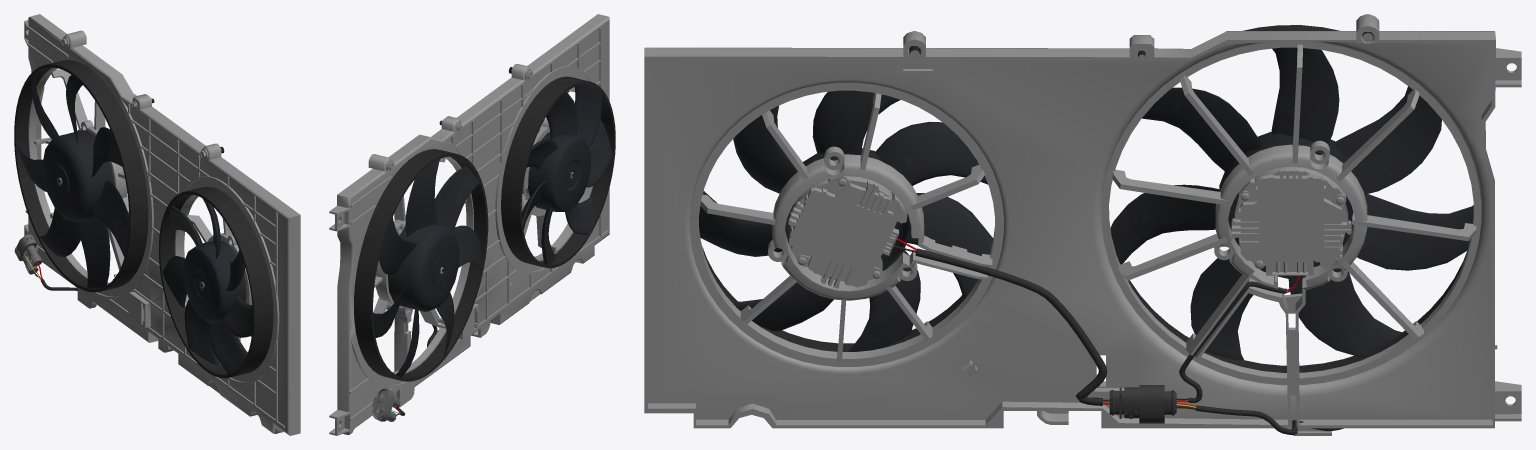
Rendered from E5_散热风扇.FBX.
3 renders of one model, left to right at view 1: azimuth 30°, elevation 25°; view 2: azimuth 150°, elevation 25°; view 3: azimuth 270°, elevation 25°, orthographic. The views are drawn at different scales.
Visible parts, largest first — view 1: DZFSZC_FJ3, DZFSZC_FJ2, DZFSZC_FJ1, LQFSCT 1; view 2: DZFSZC_FJ3, DZFSZC_FJ2, DZFSZC_FJ1, LQFSCT 1; view 3: DZFSZC_FJ3, DZFSZC_FJ2, DZFSZC_FJ1, DZFSBJ_CT003, LQXT0_01, DZFSBJ_CT002.
Boxes of the visible parts, <box> form: DZFSZC_FJ3: <box>24,14,300,435</box>; DZFSZC_FJ2: <box>14,60,148,292</box>; DZFSZC_FJ1: <box>159,186,273,378</box>; LQFSCT 1: <box>14,234,42,274</box>; DZFSZC_FJ3: <box>329,14,609,435</box>; DZFSZC_FJ2: <box>354,149,488,381</box>; DZFSZC_FJ1: <box>501,76,615,268</box>; LQFSCT 1: <box>372,388,400,421</box>; DZFSZC_FJ3: <box>644,14,1521,435</box>; DZFSZC_FJ2: <box>1110,25,1473,372</box>; DZFSZC_FJ1: <box>699,90,993,351</box>; DZFSBJ_CT003: <box>915,248,1107,405</box>; LQXT0_01: <box>1109,385,1176,423</box>; DZFSBJ_CT002: <box>1179,281,1286,402</box>.
Size of the model in its own units: 8.53 by 39.16 by 74.18.
8 materials, 3 textured.
